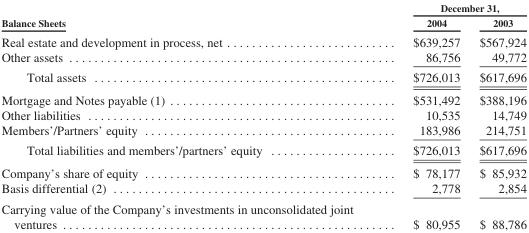table: (0, 1, 525, 230)
table column: (0, 1, 382, 230), (382, 1, 469, 230), (469, 1, 525, 230)
table column header: (0, 1, 525, 31)
table row: (0, 198, 525, 230), (0, 66, 525, 88), (0, 140, 525, 161), (0, 88, 525, 107), (0, 161, 525, 180), (0, 31, 525, 49), (0, 122, 525, 140), (0, 180, 525, 198), (0, 14, 525, 31), (0, 49, 525, 66), (0, 107, 525, 122), (0, 1, 525, 14)
table spanning cell: (0, 1, 382, 31), (382, 1, 525, 14)
